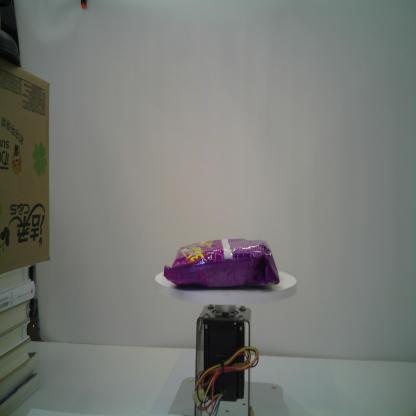Instant Noodles: (163, 238, 280, 290)
